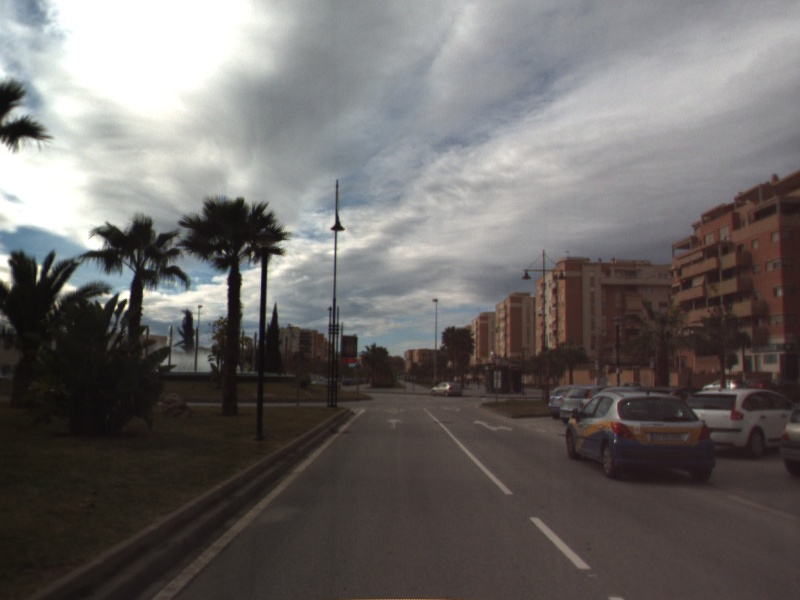STRAIGHT: (384, 416, 405, 431)
STRAIGHT_RIGHT: (472, 418, 514, 433)
